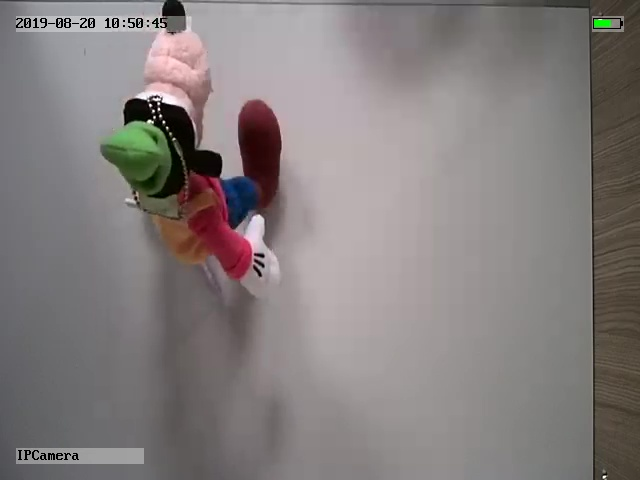goofy: (99, 1, 284, 302)
